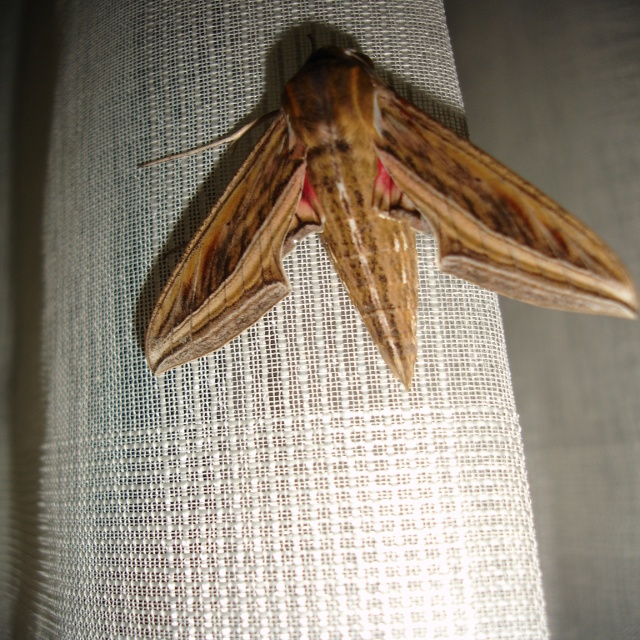Moths and butterflies: (139, 42, 639, 393)
